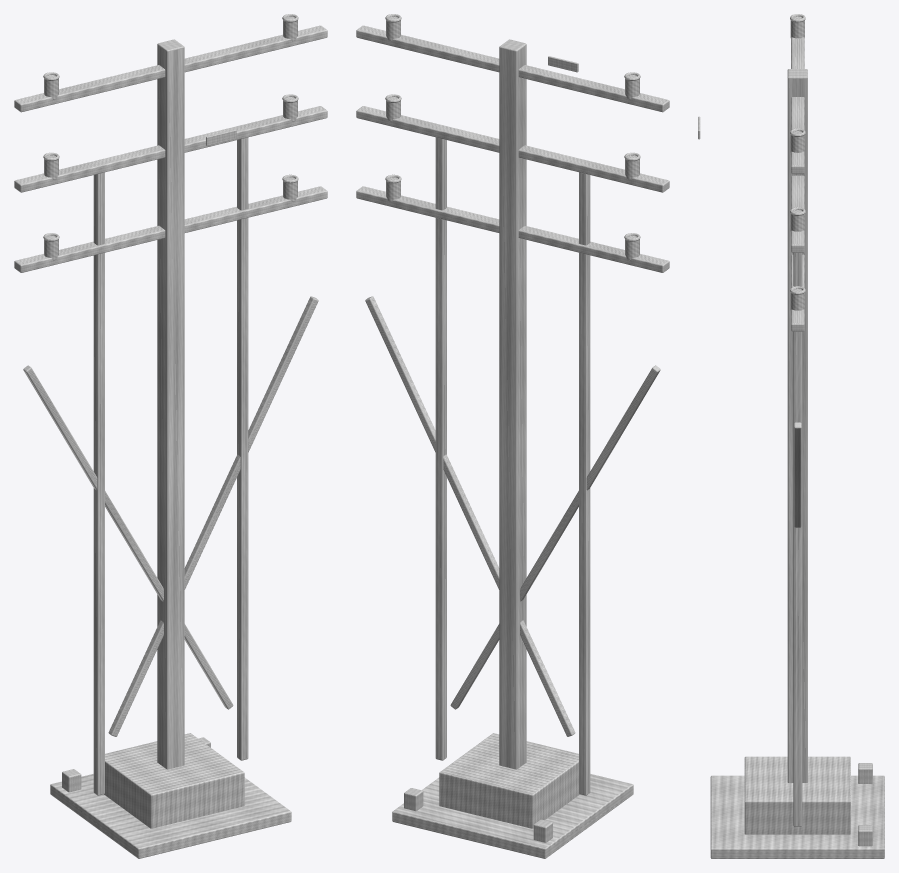
The model's file is power_tower_variant_a.glb.
3 renders of one model, left to right at view 1: azimuth 30°, elevation 25°; view 2: azimuth 150°, elevation 25°; view 3: azimuth 270°, elevation 25°, orthographic.
Parts seen in each view (by area): view 1: Mast, Pole base, Foundation, Lattice leg.001, Lattice leg, Diagonal brace.001, Crossarm.003, Crossarm.001, Crossarm.002, Diagonal brace; view 2: Mast, Pole base, Lattice leg.001, Lattice leg, Foundation, Diagonal brace.001, Crossarm.002, Crossarm.003, Crossarm.001, Diagonal brace; view 3: Mast, Foundation, Pole base, Lattice leg.001, Crossarm.003, Diagonal brace.001, Crossarm.002, Crossarm.001.
Part boxes in pixels (<box>): Mast: <box>157,39,184,769</box>; Pole base: <box>104,733,244,828</box>; Foundation: <box>50,774,291,858</box>; Lattice leg.001: <box>237,137,248,760</box>; Lattice leg: <box>93,172,104,795</box>; Diagonal brace.001: <box>108,296,318,736</box>; Crossarm.003: <box>14,25,327,112</box>; Crossarm.001: <box>14,186,327,272</box>; Crossarm.002: <box>14,106,327,192</box>; Diagonal brace: <box>23,365,233,709</box>; Mast: <box>499,39,526,769</box>; Pole base: <box>439,733,579,828</box>; Lattice leg.001: <box>435,137,446,760</box>; Lattice leg: <box>579,172,590,795</box>; Foundation: <box>392,774,633,858</box>; Diagonal brace.001: <box>365,296,575,736</box>; Crossarm.002: <box>356,106,669,192</box>; Crossarm.003: <box>356,25,669,112</box>; Crossarm.001: <box>356,186,669,272</box>; Diagonal brace: <box>450,365,660,709</box>; Mast: <box>787,69,807,782</box>; Foundation: <box>710,775,884,858</box>; Pole base: <box>744,756,850,834</box>; Lattice leg.001: <box>793,252,802,826</box>; Crossarm.003: <box>791,37,804,173</box>; Diagonal brace.001: <box>794,422,801,527</box>; Crossarm.002: <box>791,175,804,252</box>; Crossarm.001: <box>791,254,804,331</box>.
Size of what is drawn, in the model's own units: 7.2 by 17.1 by 3.86.
6 materials, 6 textured.
